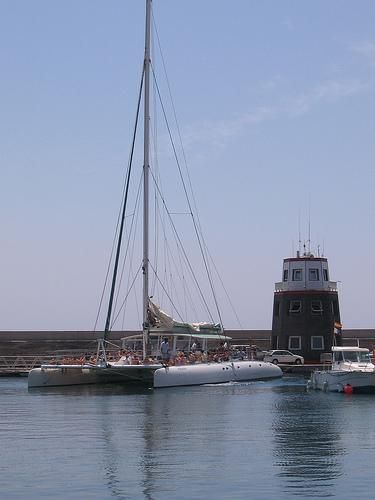Ship: (31, 3, 284, 392), (311, 347, 375, 394)
